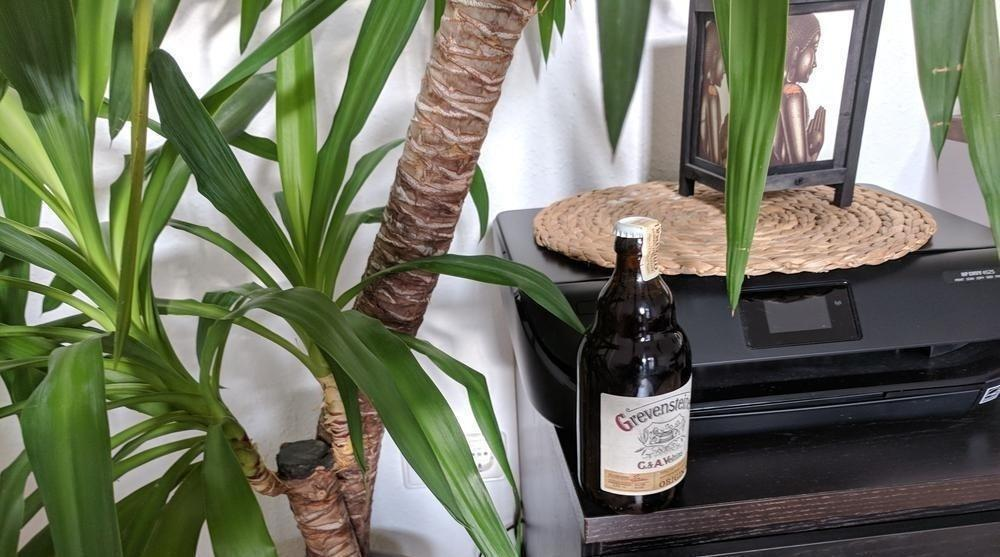bottle-glass: (575, 217, 694, 517)
